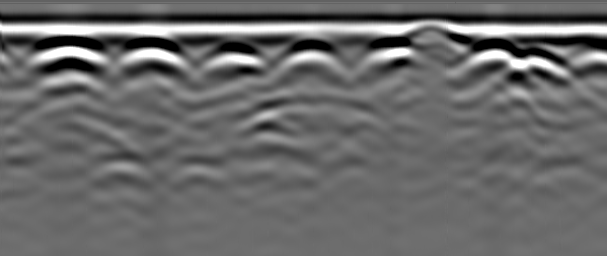pipe: (400, 19, 472, 46)
steel: (280, 37, 353, 80), (32, 34, 110, 74), (122, 38, 193, 78), (359, 35, 416, 76), (516, 43, 574, 82), (205, 42, 265, 77), (471, 34, 517, 73)
